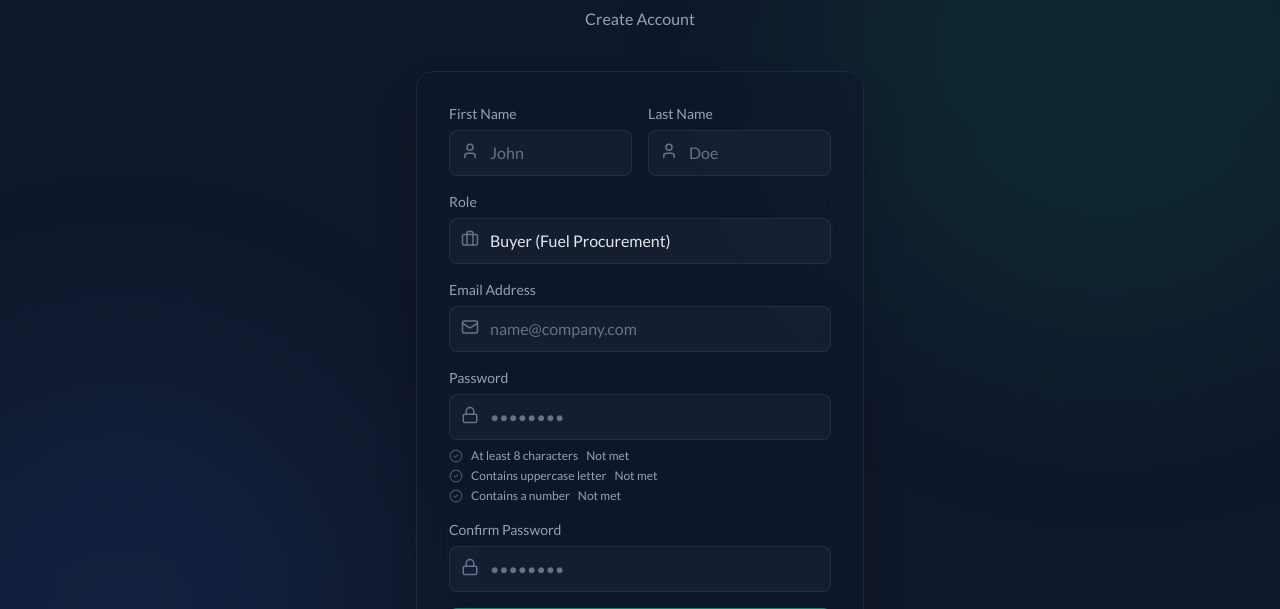
Test case: registration completion › offers the thank-you next step only after the API creates the account
The image size is (1280, 609).
Type "Test" into the field labelled "First Name" at (540, 153), box [449,130,632,176]
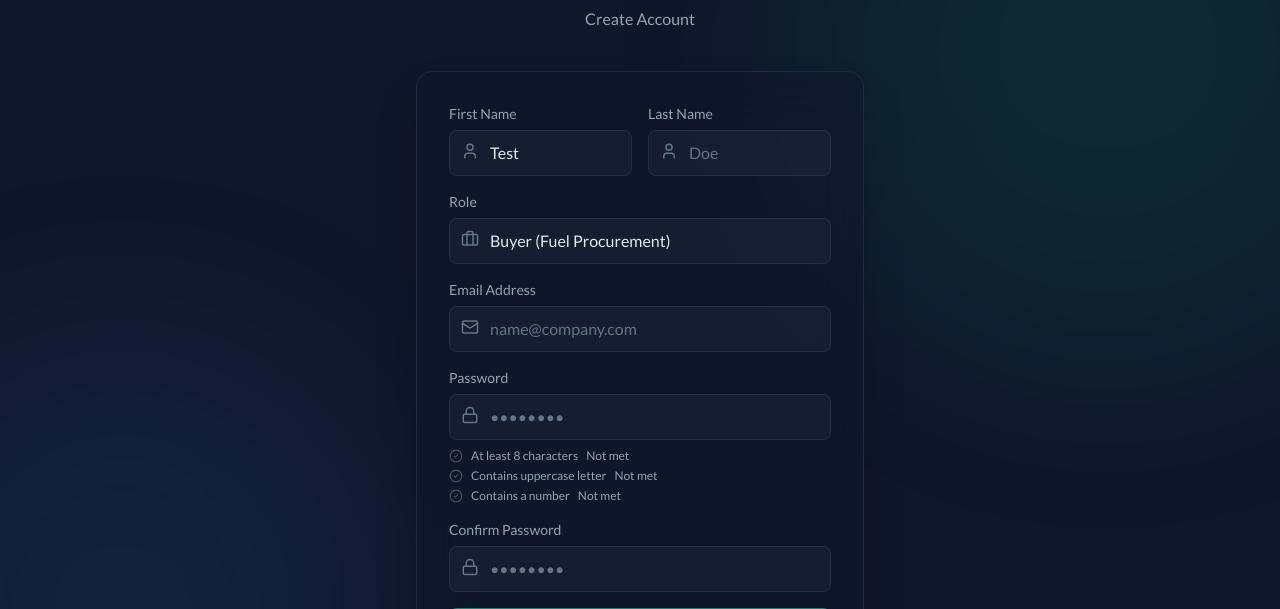
Type "User" into the field labelled "Last Name" at (740, 153), box [648,130,831,176]
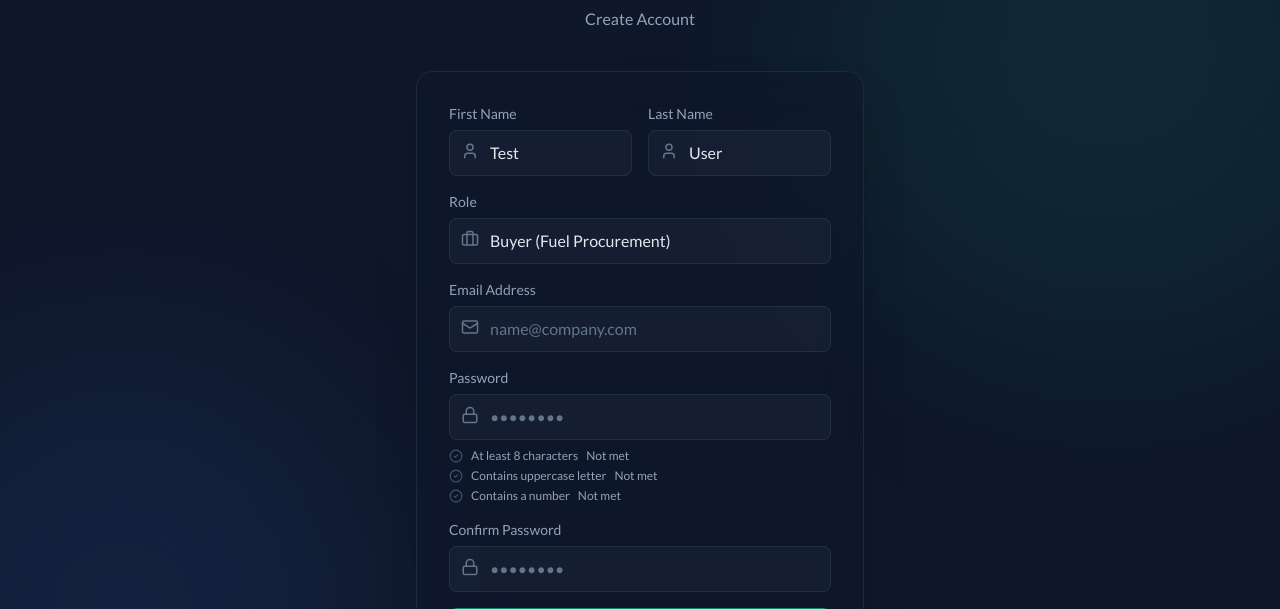
Type "user@example.test" into the field labelled "Email Address" at (640, 329), box [449,306,831,352]
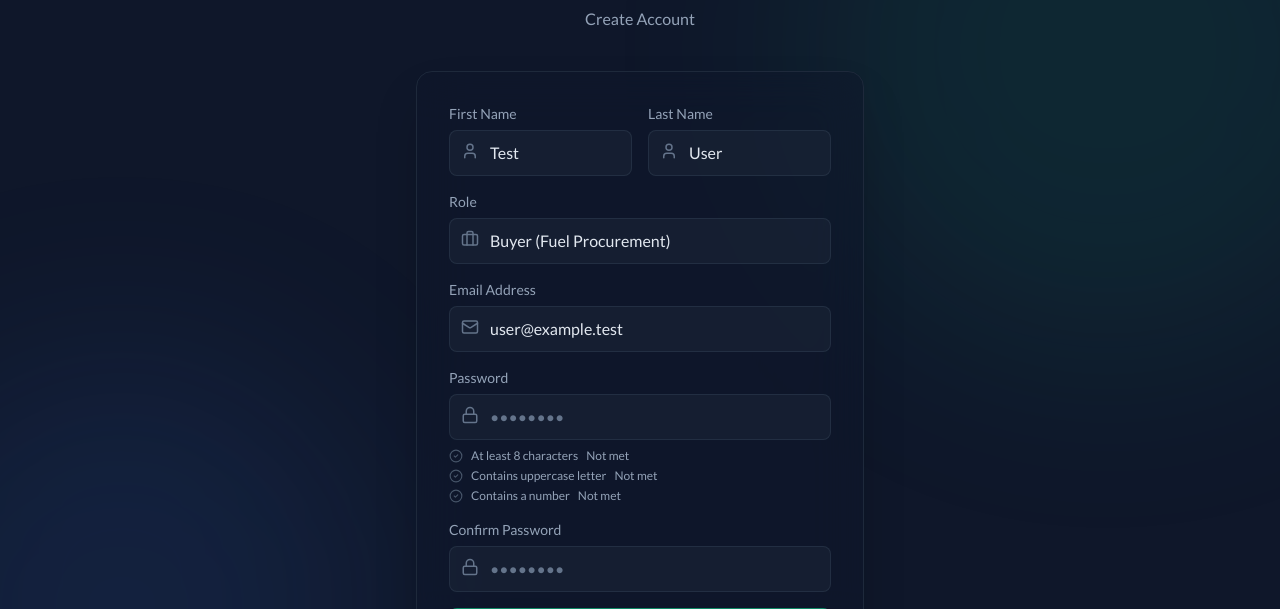
Type "Valid123" into the password field labelled "Password" at (640, 417), box [449,394,831,440]
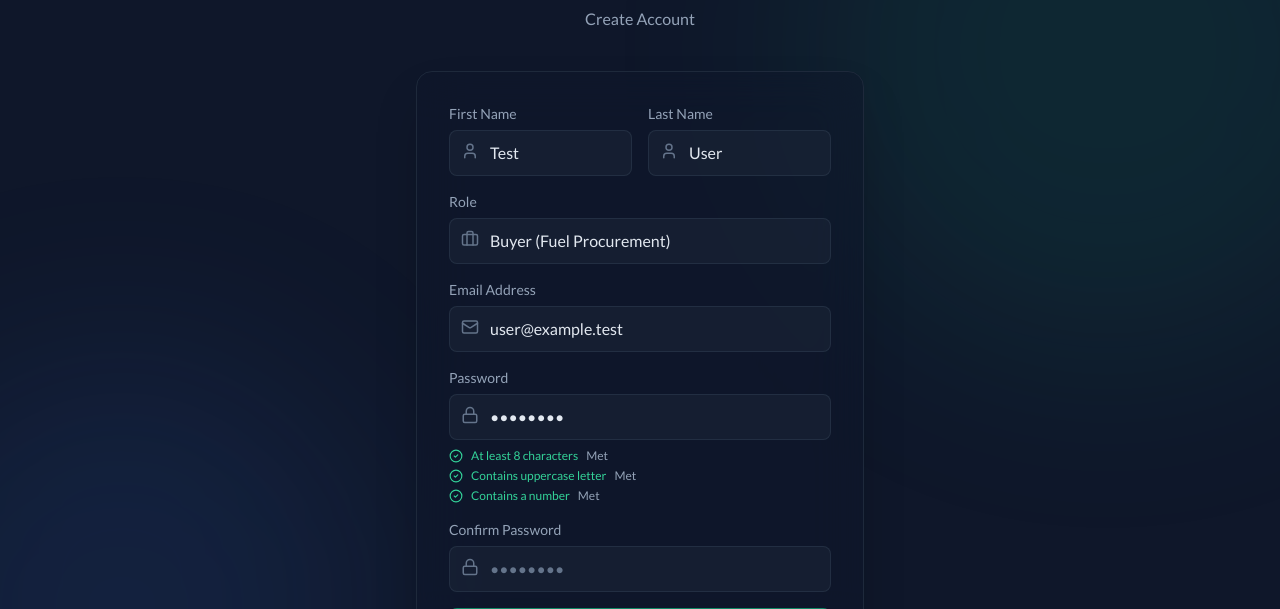
Type "Valid123" into the password field labelled "Confirm Password" at (640, 569), box [449,546,831,592]
(page scrolled)
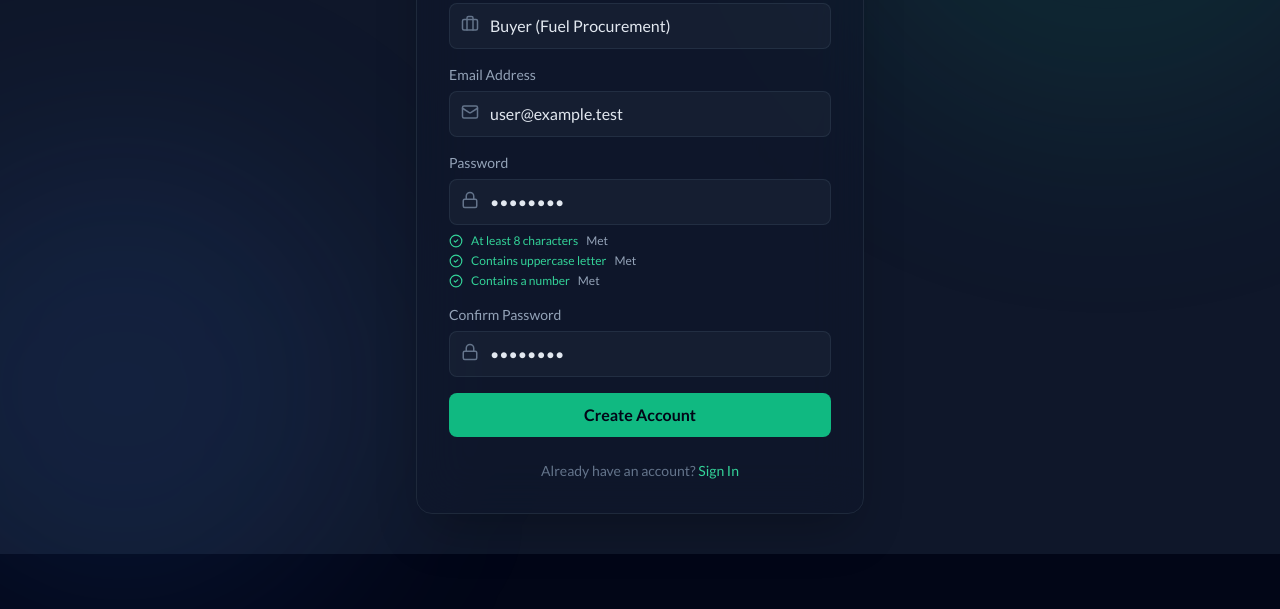
Click the button "Create Account" at (640, 415), box [449,393,831,437]
(page scrolled)
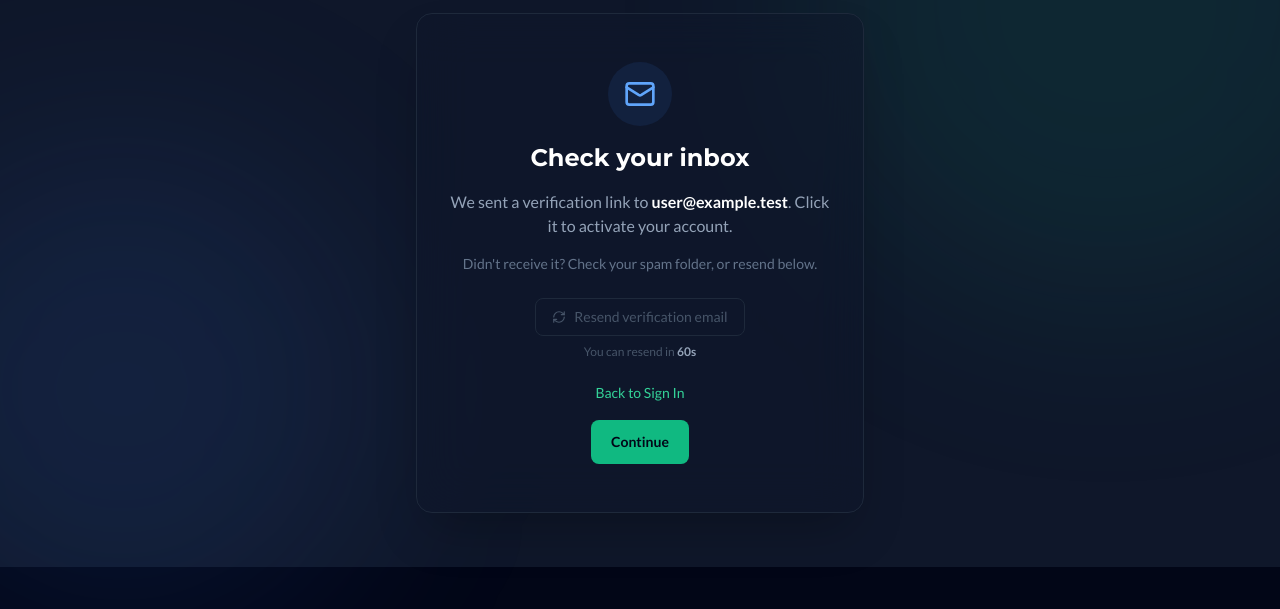
Expected: the heading "Check your inbox" is shown, [530,143,750,172]
Expected: the text "user@example.test" is shown, [652,192,788,211]
